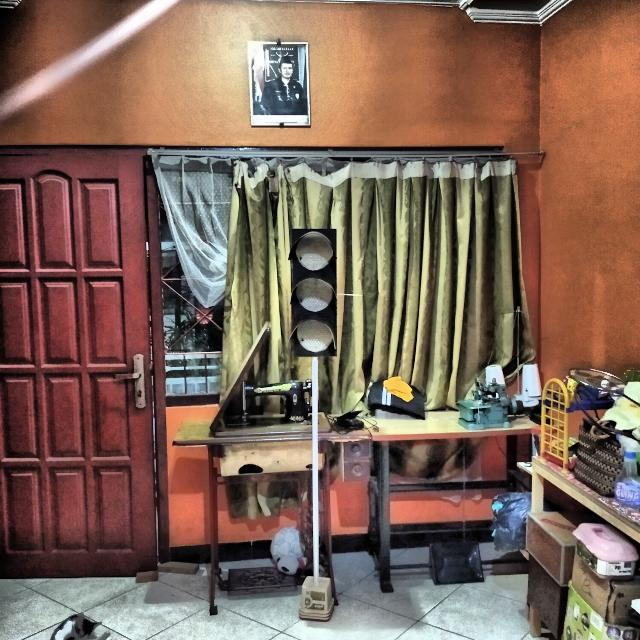yellow: (290, 227, 337, 356)
